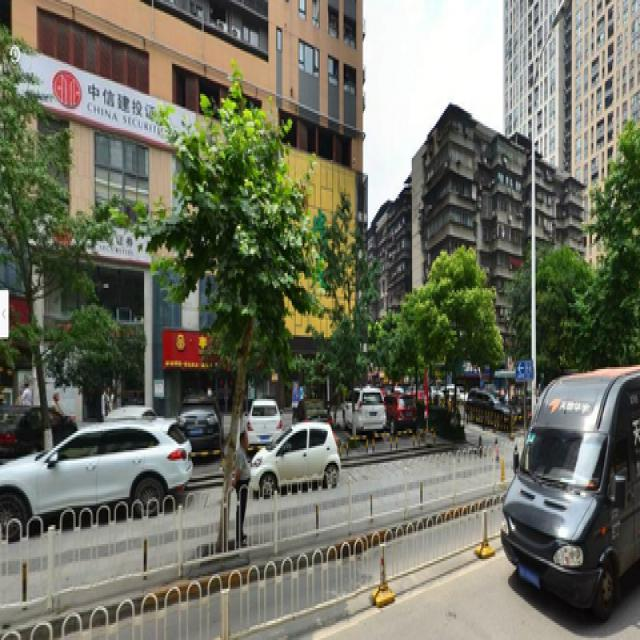meta: (166, 92, 302, 552)
